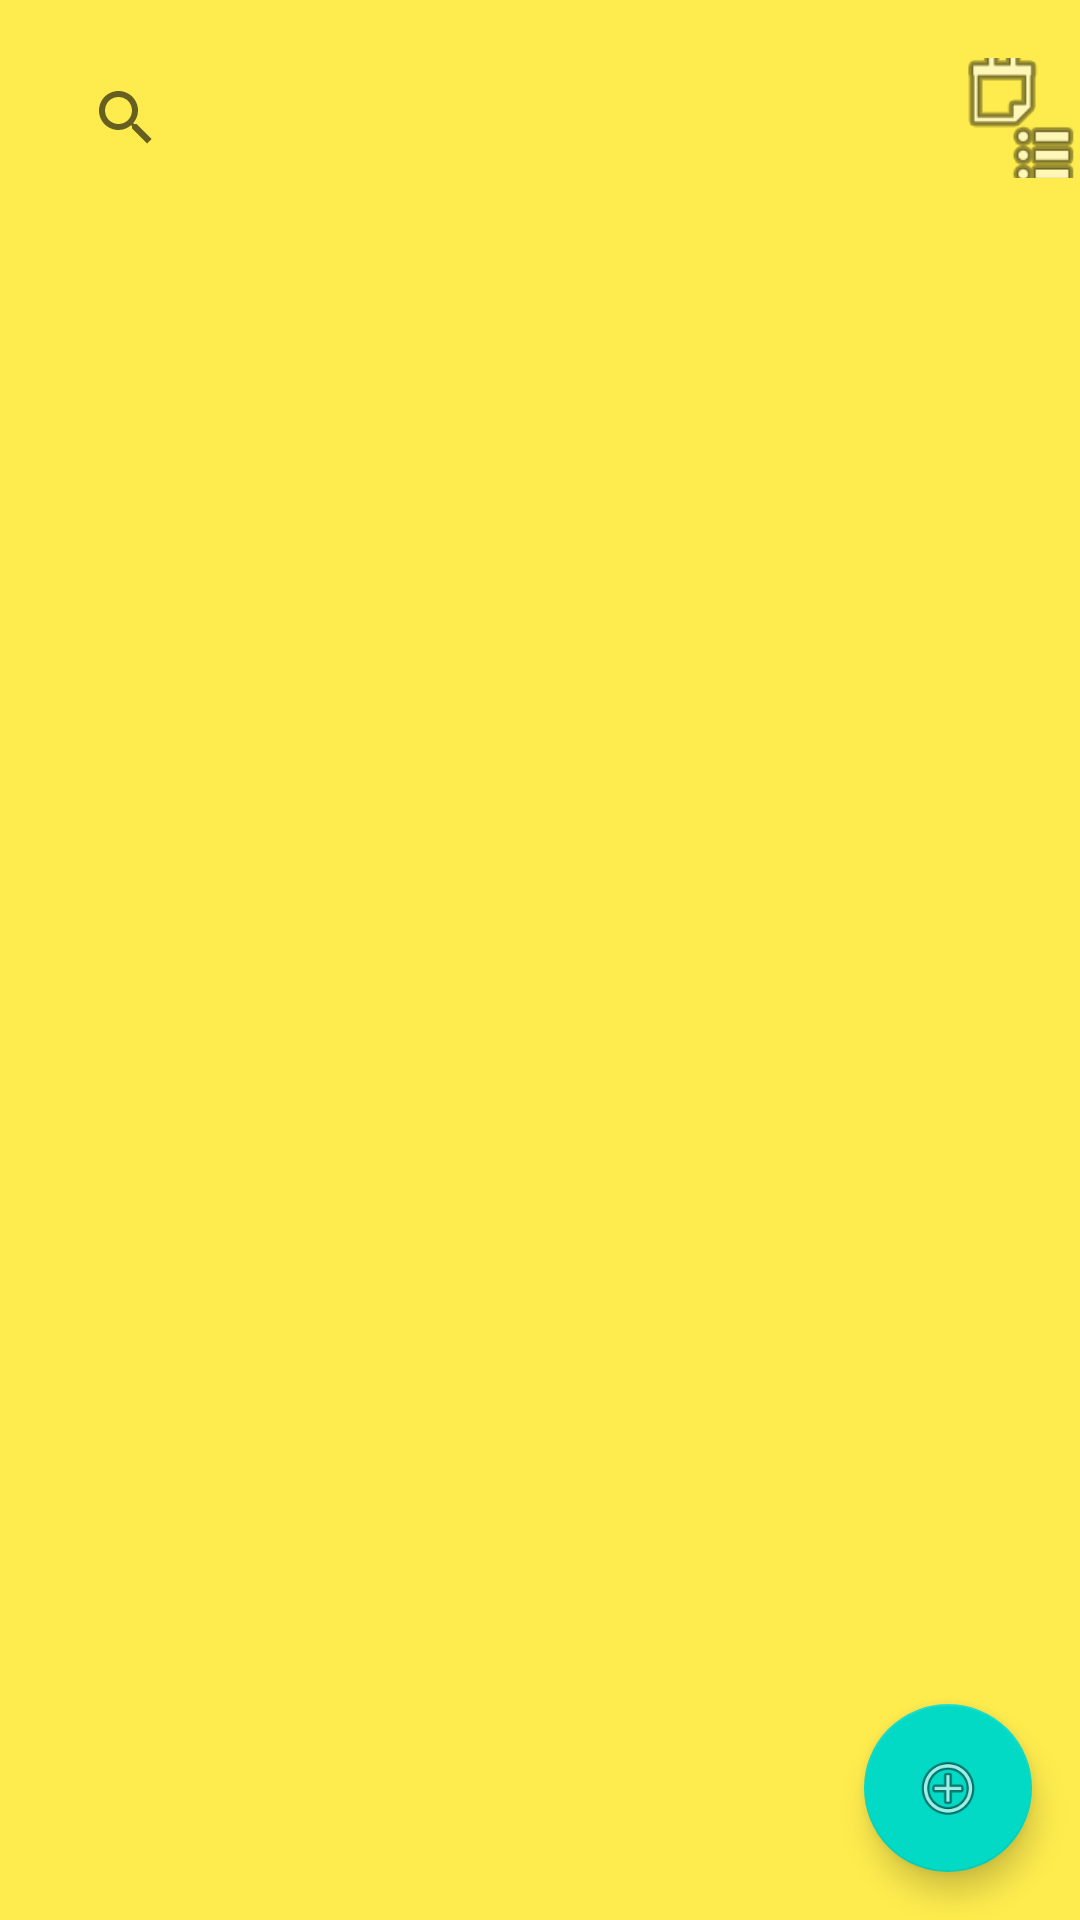

Point at icon controls on the screen. Image size 1080 × 1920, points as (x=x, y=y).
add: (x=948, y=1788)
agenda: (x=1021, y=118)
